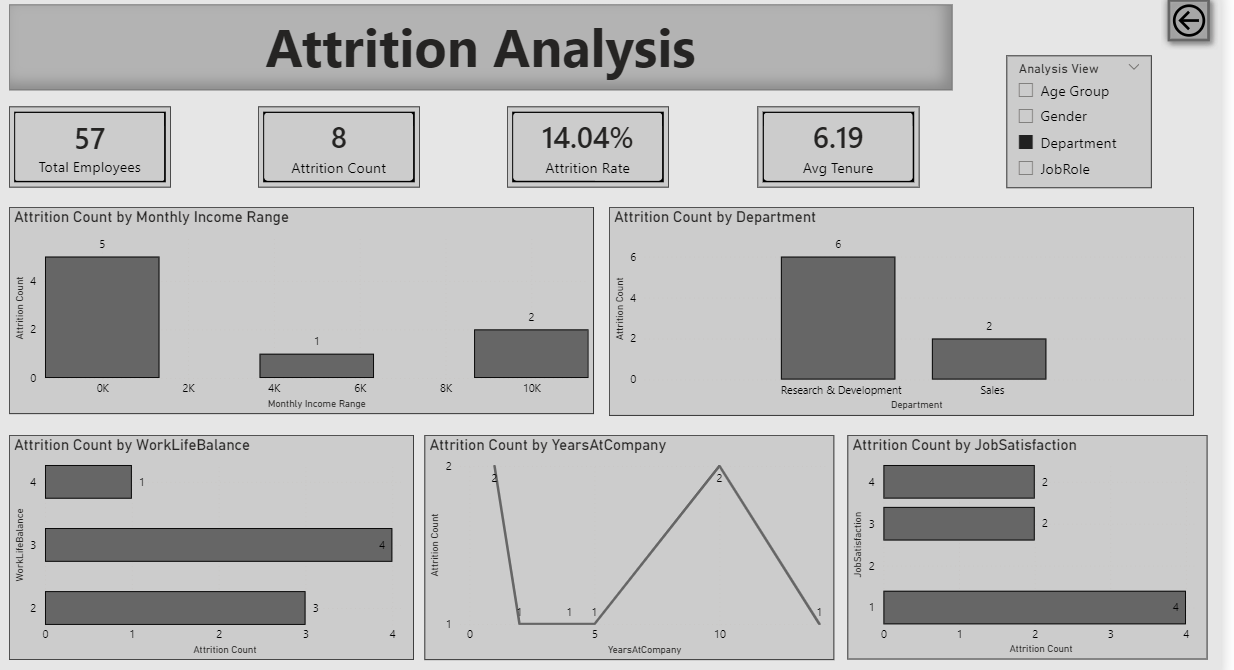

This screenshot's page, from the dashboard's own definition file:
{"tool":"powerbi","page":{"name":"Attrition Analysis","canvas":[1366,768],"ordinal":1},"visuals":[{"type":"slicer","fields":{"Values":["Analysis View.Analysis View"]},"box":[1128.3,71.3,161.2,147.6],"z":0},{"type":"clusteredColumnChart","fields":{"Category":["Dim_Job.Department"],"Y":["HR_Analysis.Attrition Count"]},"box":[686.9,239.7,650.2,231.7],"z":1000},{"type":"clusteredColumnChart","fields":{"Category":["HR_Analysis.MonthlyIncome (bins)"],"Y":["HR_Analysis.Attrition Count"]},"box":[20,240.5,650.2,230.1],"z":2000},{"type":"cardVisual","fields":{"Data":["HR_Analysis.Total Employees"]},"box":[20,128.9,180,90],"z":3000},{"type":"cardVisual","fields":{"Data":["HR_Analysis.Attrition Rate"]},"box":[574.1,128.9,180,90],"z":4000},{"type":"cardVisual","fields":{"Data":["HR_Analysis.Attrition Count"]},"box":[297.1,128.9,180,90],"z":5000},{"type":"cardVisual","fields":{"Data":["HR_Analysis.Avg Tenure"]},"box":[851.2,128.9,180,90],"z":6000},{"type":"clusteredBarChart","fields":{"Y":["HR_Analysis.Attrition Count"],"Category":["Dim_Satisfaction.WorkLifeBalance"]},"box":[20.4,493.7,450,250],"z":7000},{"type":"lineChart","fields":{"Category":["HR_Analysis.YearsAtCompany"],"Y":["HR_Analysis.Attrition Count"]},"box":[481.8,493.5,455,250.1],"z":8000},{"type":"clusteredBarChart","fields":{"Y":["HR_Analysis.Attrition Count"],"Category":["Dim_Satisfaction.JobSatisfaction"]},"box":[951.8,493.7,400,249.4],"z":9000},{"type":"textbox","box":[20,15,1048.7,95],"z":10000},{"type":"actionButton","box":[1297.9,0,65,65],"z":11000}]}

Visuals, with their boxes in screenshot pixels (x1, y1, x2, y2):
slicer - Analysis View.Analysis View: bbox=[994, 54, 1138, 185]
clusteredColumnChart - Dim_Job.Department x HR_Analysis.Attrition Count: bbox=[602, 204, 1180, 410]
clusteredColumnChart - HR_Analysis.MonthlyIncome (bins) x HR_Analysis.Attrition Count: bbox=[8, 204, 587, 409]
cardVisual - HR_Analysis.Total Employees: bbox=[8, 105, 168, 185]
cardVisual - HR_Analysis.Attrition Rate: bbox=[501, 105, 661, 185]
cardVisual - HR_Analysis.Attrition Count: bbox=[255, 105, 415, 185]
cardVisual - HR_Analysis.Avg Tenure: bbox=[748, 105, 908, 185]
clusteredBarChart - HR_Analysis.Attrition Count x Dim_Satisfaction.WorkLifeBalance: bbox=[9, 430, 409, 652]
lineChart - HR_Analysis.YearsAtCompany x HR_Analysis.Attrition Count: bbox=[419, 430, 824, 652]
clusteredBarChart - HR_Analysis.Attrition Count x Dim_Satisfaction.JobSatisfaction: bbox=[837, 430, 1193, 652]
textbox: bbox=[8, 4, 941, 88]
actionButton: bbox=[1145, 0, 1203, 48]
